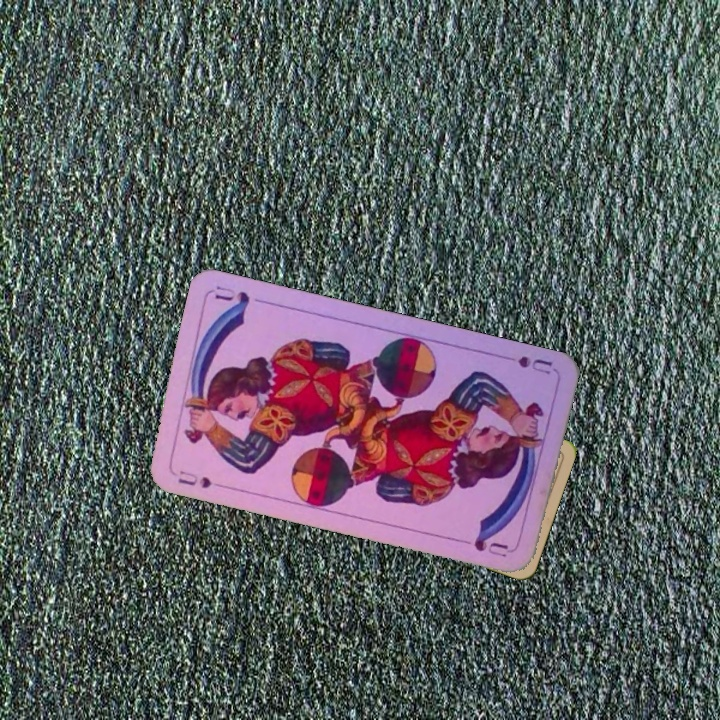SU: (496, 351, 555, 377), (174, 466, 214, 491)
